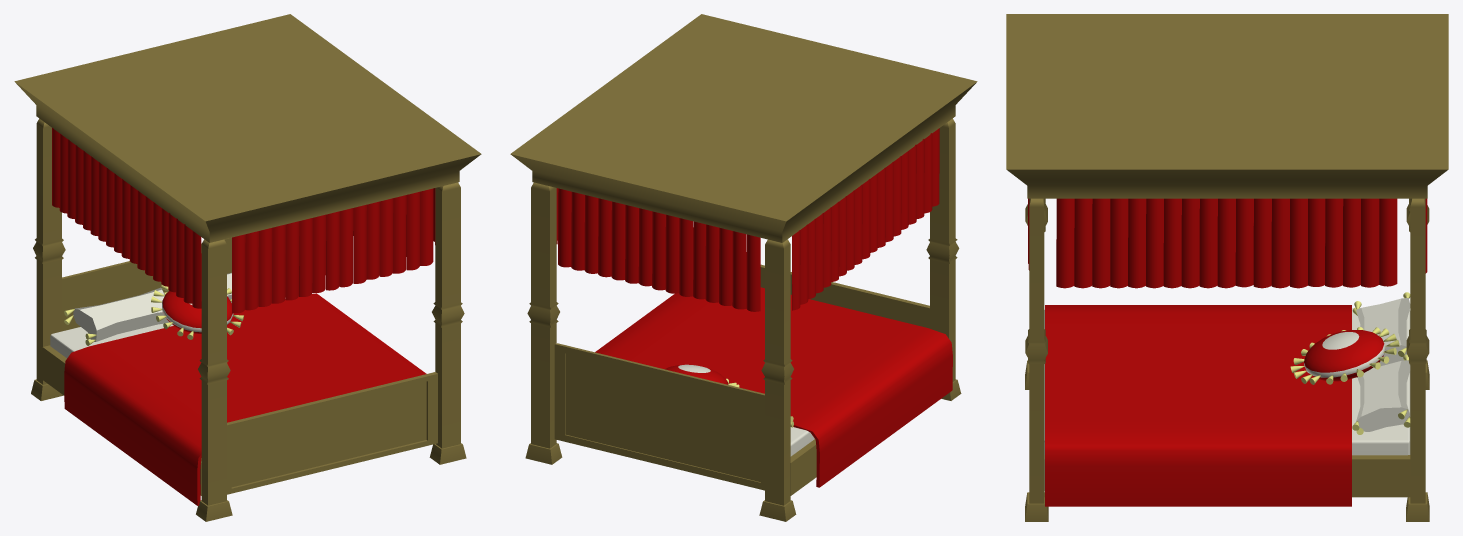
Rendered from KingBed.fbx.
3 views of the same model, side by side, from view 1: azimuth 30°, elevation 25°; view 2: azimuth 150°, elevation 25°; view 3: azimuth 270°, elevation 25° (orthographic). The views are drawn at different scales.
Parts seen in each view (by area): view 1: polySurface25427; view 2: polySurface25427; view 3: polySurface25427.
Part boxes in pixels (box(x1,y1,x2,y2)): polySurface25427: box(14, 14, 481, 521); polySurface25427: box(510, 14, 977, 521); polySurface25427: box(1006, 14, 1448, 521).
Size of the model in its own units: 8.77 by 9.36 by 10.52.
